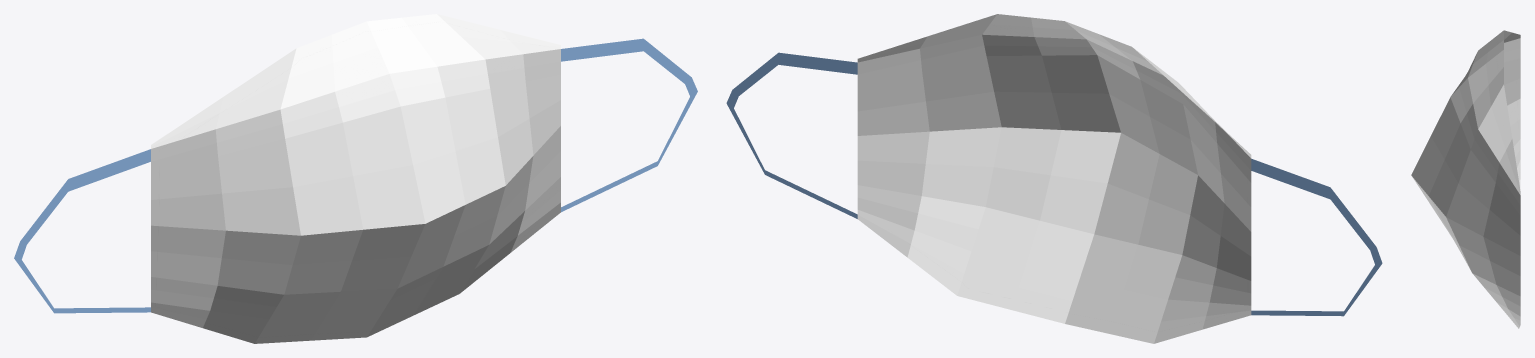
Rendered from TAPA BOCAS.fbx.
3 views of the same model, side by side, from view 1: azimuth 30°, elevation 25°; view 2: azimuth 150°, elevation 25°; view 3: azimuth 270°, elevation 25° (orthographic). The views are drawn at different scales.
Parts seen in each view (by area): view 1: Plane; view 2: Plane; view 3: Plane.
Boxes of the visible parts, x1,y1,x2,y2 form: Plane: (14,14,697,343); Plane: (726,14,1382,343); Plane: (1411,30,1520,328).
Bounding box in the file's own units: 28.78 × 12.7 × 5.06.
Materials: 1 (1 with a texture image).
